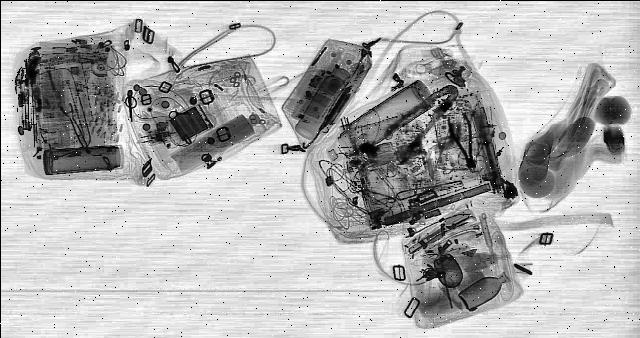Pliers: (358, 82, 476, 165), (444, 112, 484, 168)
